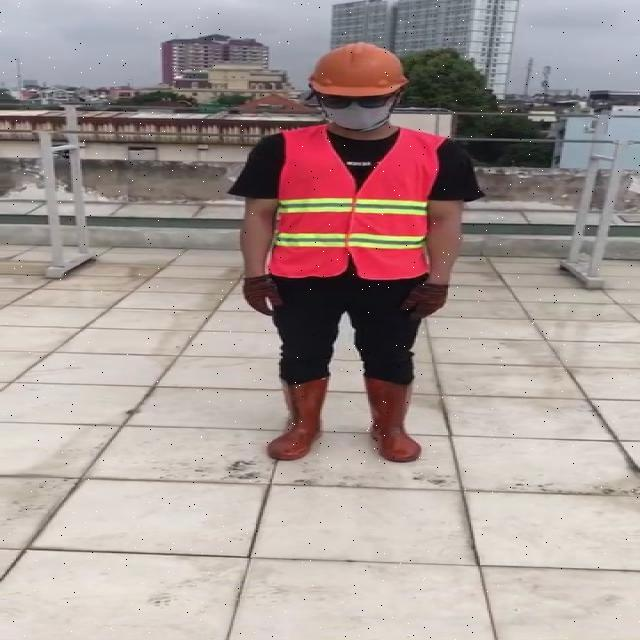Hard_hat: (302, 40, 413, 104)
Person: (221, 41, 488, 480)
Vest: (270, 126, 435, 280)
